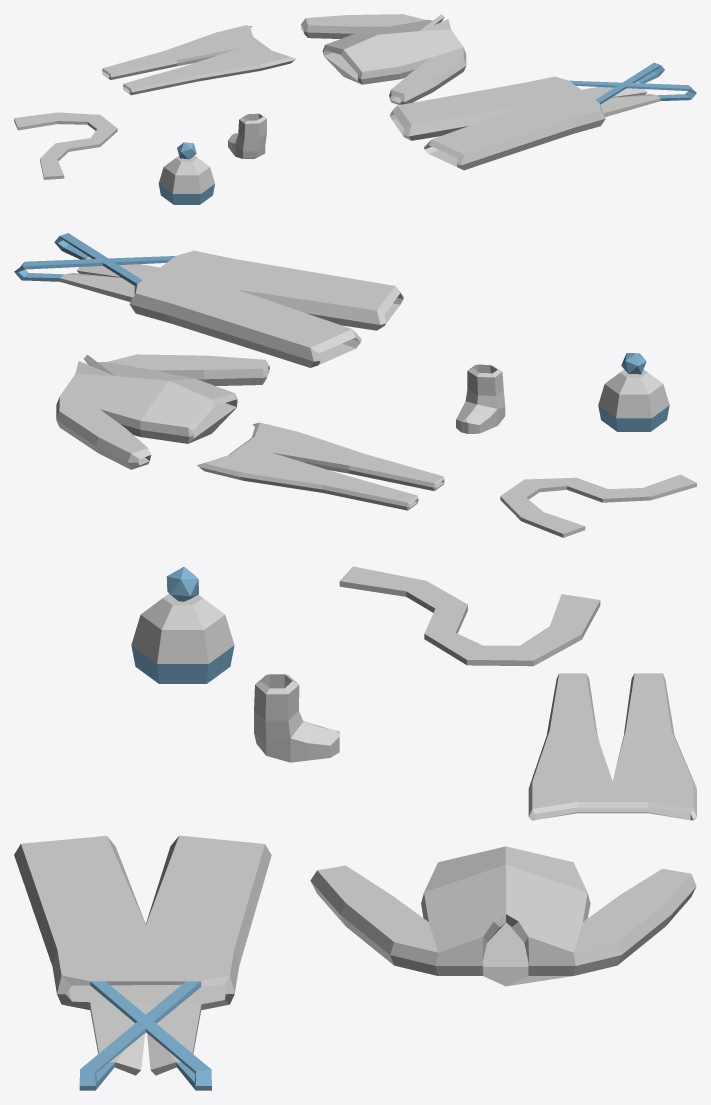
The model's file is outfit_snowsuit.fbx.
The picture shows the model from 3 angles, top to bottom: view 1: azimuth 30°, elevation 25°; view 2: azimuth 150°, elevation 25°; view 3: azimuth 270°, elevation 25°; orthographic projection. The views are drawn at different scales.
Parts seen in each view (by area): view 1: Snowsuit_pants, Snowsuit_jacket, Snowsuit_longjohns, Snowsuit_scarf, Snowsuit_hat, Snowsuit_boot; view 2: Snowsuit_pants, Snowsuit_jacket, Snowsuit_longjohns, Snowsuit_scarf, Snowsuit_hat, Snowsuit_boot; view 3: Snowsuit_pants, Snowsuit_jacket, Snowsuit_longjohns, Snowsuit_scarf, Snowsuit_hat, Snowsuit_boot.
Boxes of the visible parts, x1,y1,x2,y2 form: Snowsuit_pants: (389,62,696,170); Snowsuit_jacket: (301,14,466,104); Snowsuit_longjohns: (102,25,296,95); Snowsuit_scarf: (14,112,117,179); Snowsuit_hat: (158,142,214,204); Snowsuit_boot: (228,113,266,158); Snowsuit_pants: (14,233,403,367); Snowsuit_jacket: (56,354,269,469); Snowsuit_longjohns: (197,422,444,510); Snowsuit_scarf: (500,474,696,537); Snowsuit_hat: (598,353,669,431); Snowsuit_boot: (456,364,505,433); Snowsuit_pants: (14,835,271,1090); Snowsuit_jacket: (310,846,696,986); Snowsuit_longjohns: (528,673,696,820); Snowsuit_scarf: (339,566,600,666); Snowsuit_hat: (131,567,234,683); Snowsuit_boot: (254,674,339,762).
Bounding box in the file's own units: 8.03 × 0.8673 × 4.5.
